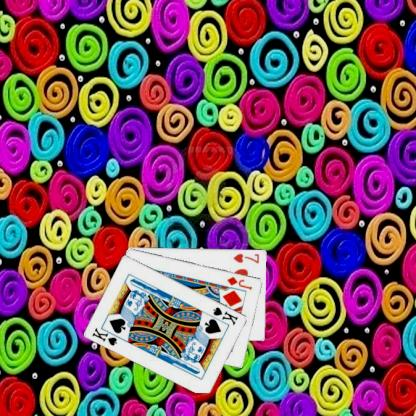7H: (231, 251, 260, 264)
JD: (224, 273, 254, 291)
KS: (90, 324, 124, 347), (210, 304, 240, 326)
